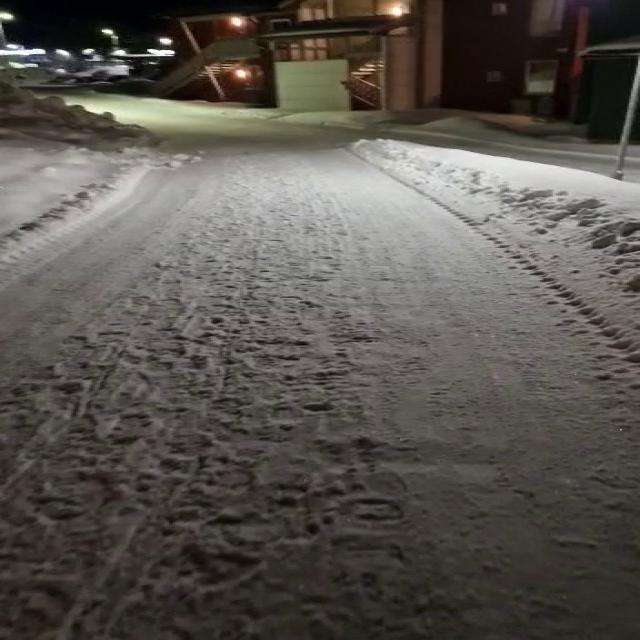path: (0, 95, 640, 640)
